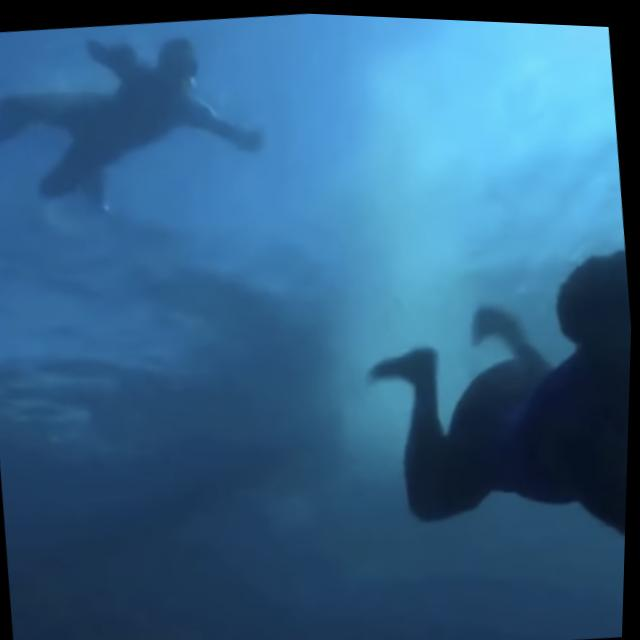human: (339, 221, 635, 598), (0, 4, 289, 241)
